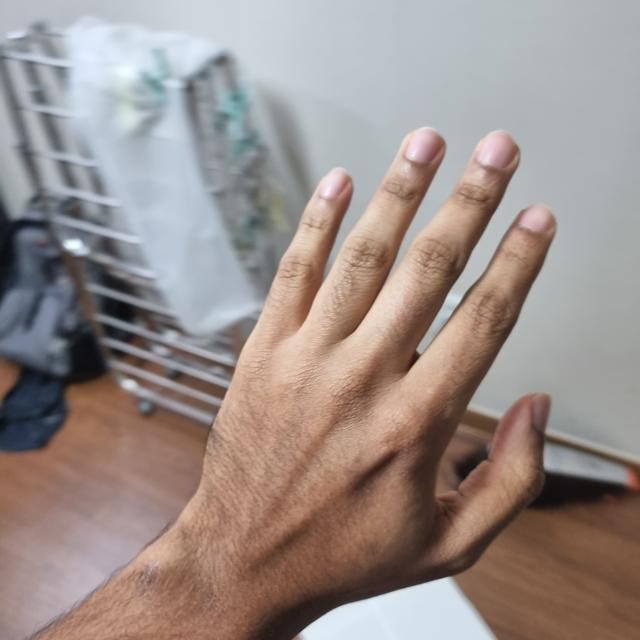Paper: (181, 127, 640, 639)
